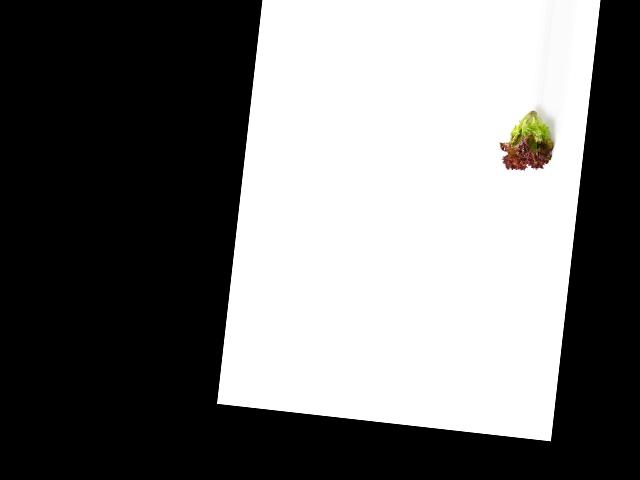lettuce: (498, 99, 559, 177)
